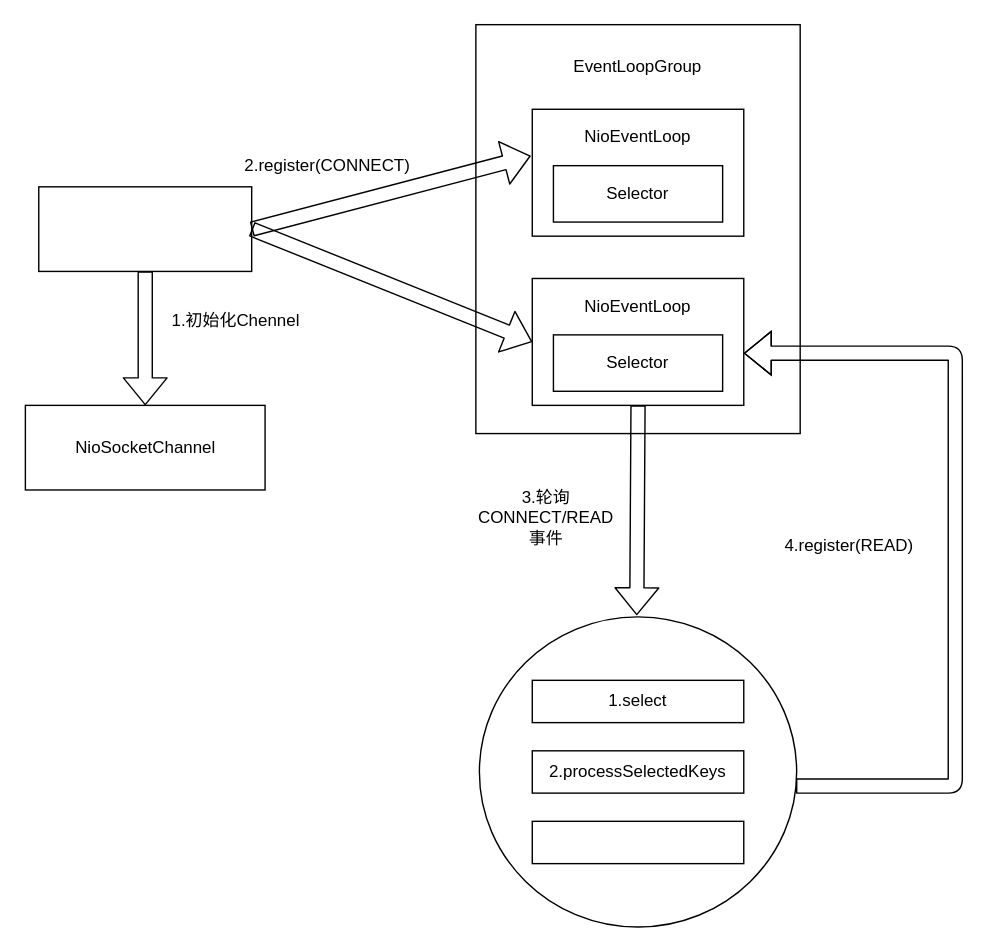
This 987x952 diagram has some shape labels left out. Here are the shapes that lost their labels. From the top down, the box of each, then its label:
(37, 185, 252, 271): Bootstrap.connect()
(531, 820, 744, 864): 3.runAllTasks
